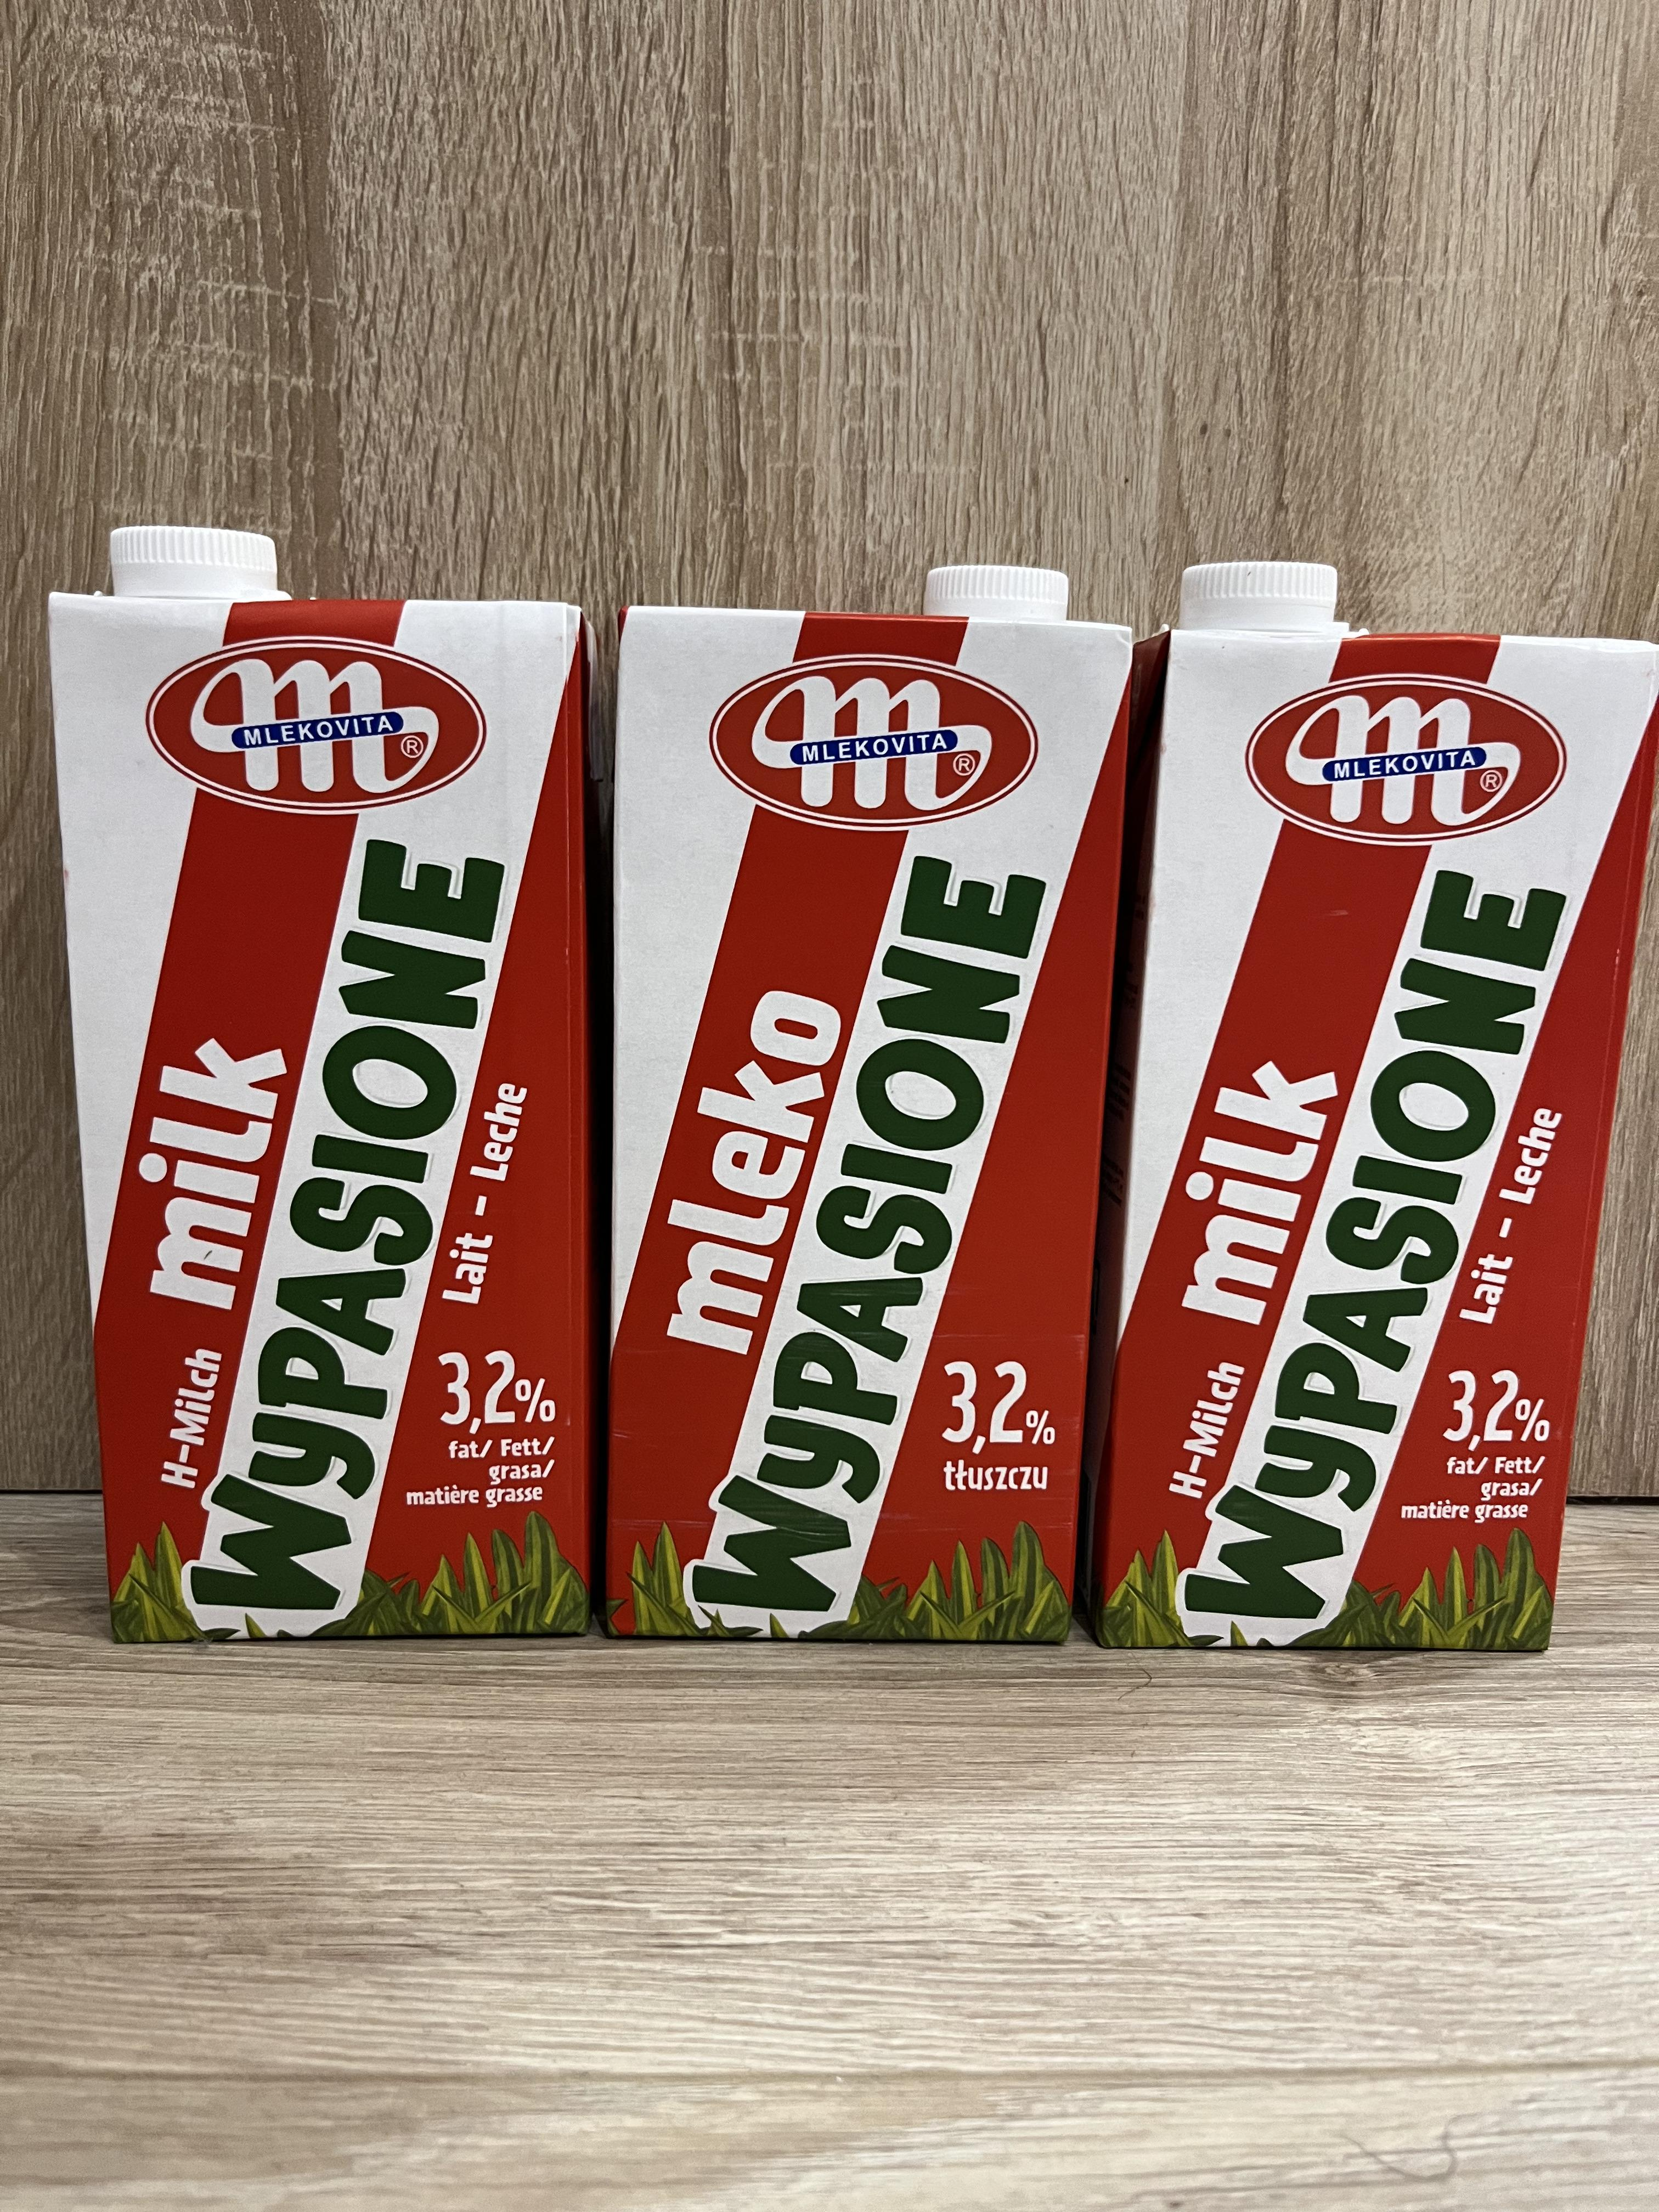Milk: (59, 585, 615, 1634), (615, 606, 1089, 1660), (1150, 643, 1575, 1674)
